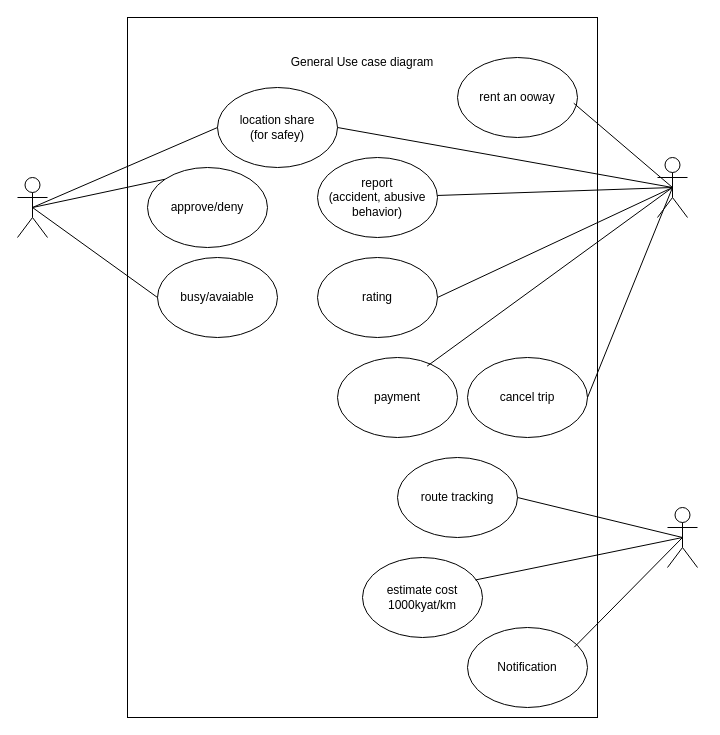
The diagram is 720 pixels wide and 735 high, and some of its shapes have lost their labels. Each missing label, with the centre of its shape:
"driver" goes at point (32, 207).
"passenger" goes at point (672, 187).
"System" goes at point (682, 537).
